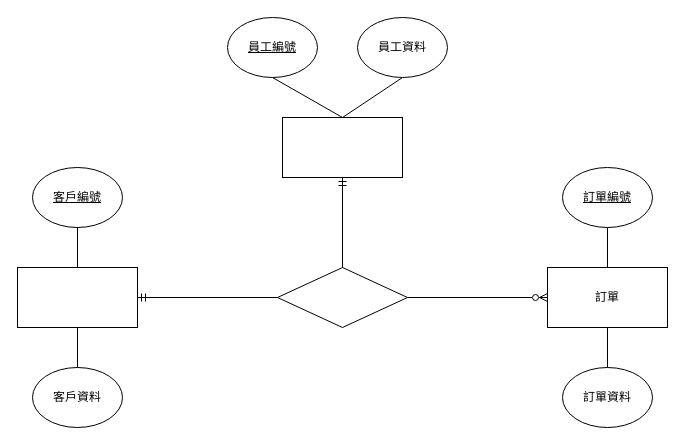
The diagram is 685 pixels wide and 445 high, and some of its shapes have lost their labels. Each missing label, with the box of its shape:
員工: (282, 116, 402, 178)
客戶: (16, 266, 138, 328)
訂購: (276, 266, 408, 328)
